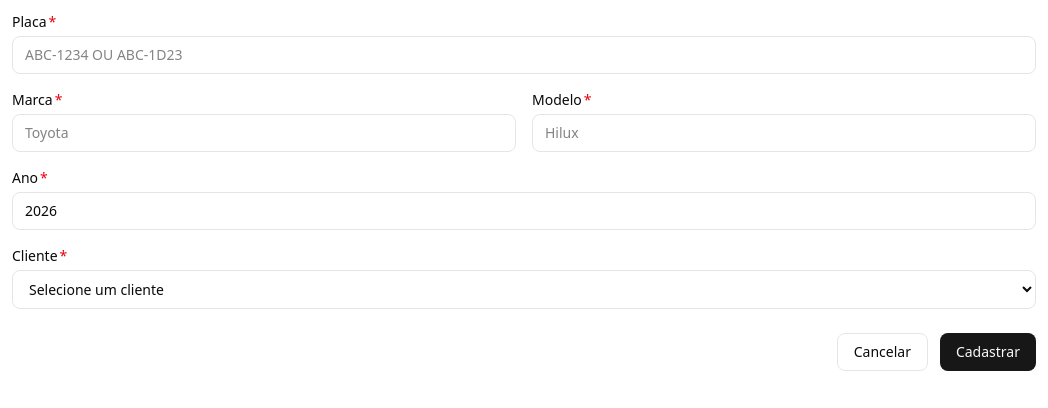
Scenario: VehicleForm › ano inválido < 1990 → erro
The image size is (1048, 408).
Type "1989" into the field labelled "Ano*" at (524, 211), box [12, 192, 1036, 230]
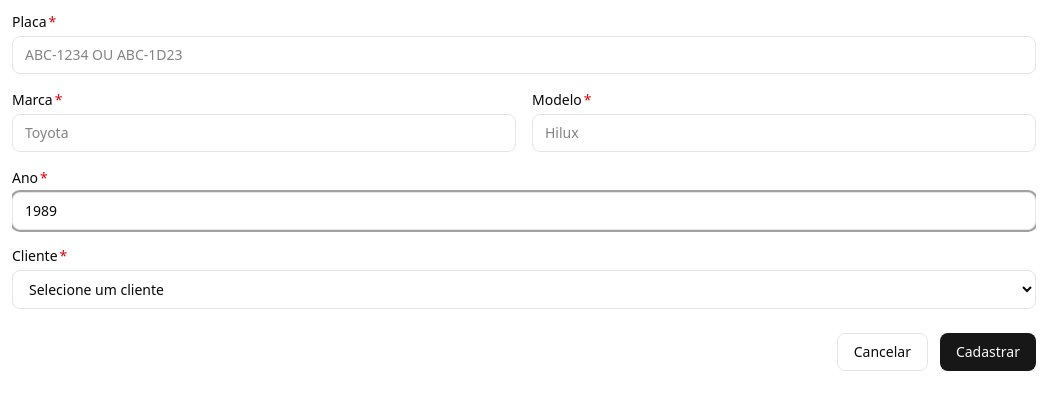
Leave the field labelled "Ano*", box [12, 192, 1036, 230]
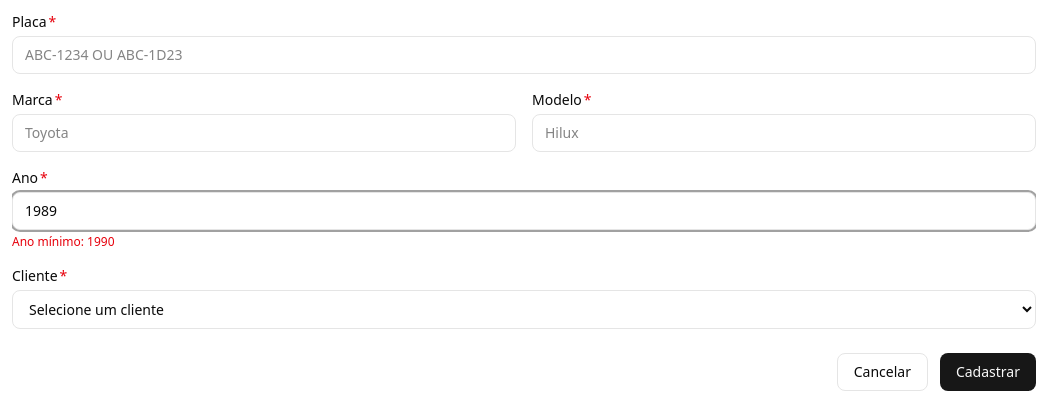
Check: the message "Ano mínimo: 1990" is shown, box [12, 233, 115, 250]
